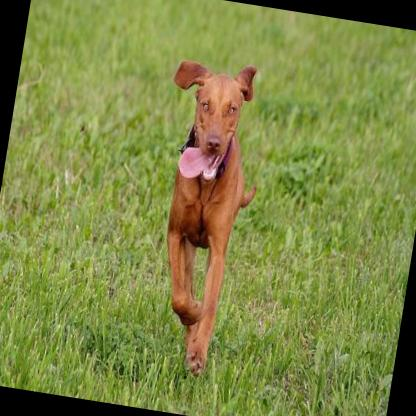vizsla: (128, 51, 276, 380)
